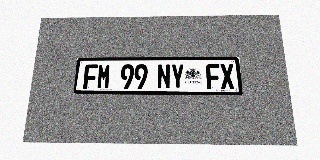9: (120, 64, 134, 89), (134, 64, 148, 89)
F: (83, 64, 98, 89), (206, 64, 221, 89)
M: (96, 64, 111, 89)
N: (157, 64, 170, 89)
X: (220, 64, 235, 89)
Y: (171, 64, 184, 89)
